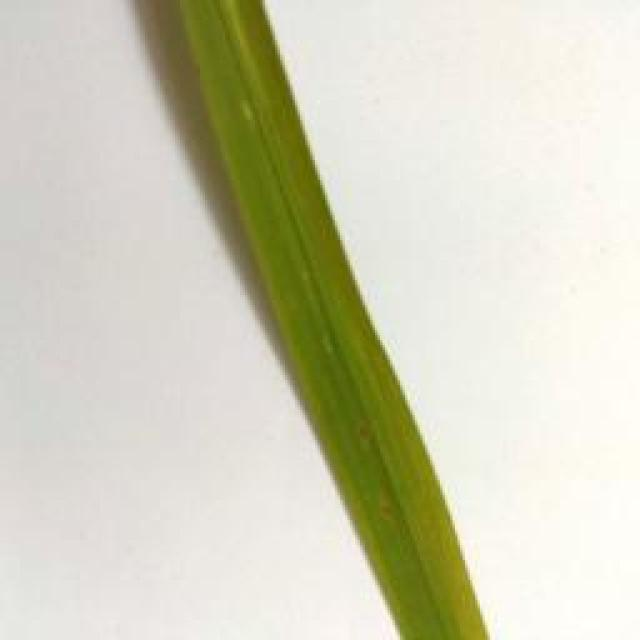Brown_Spot: (383, 496, 407, 542), (346, 418, 372, 452)
